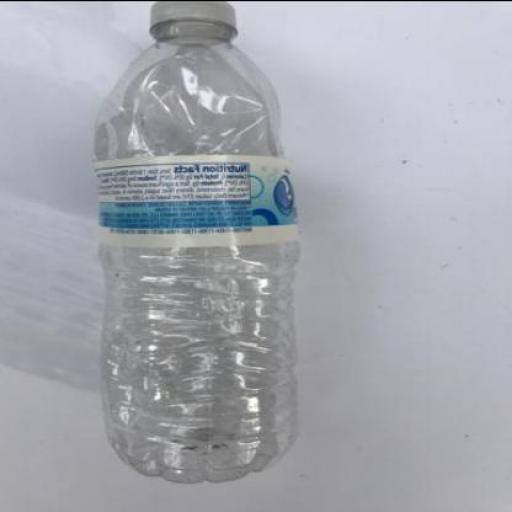plastic: (92, 1, 299, 480), (90, 151, 301, 245), (146, 1, 236, 43)
